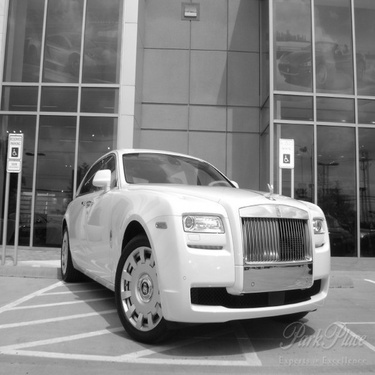car: (33, 137, 346, 321)
